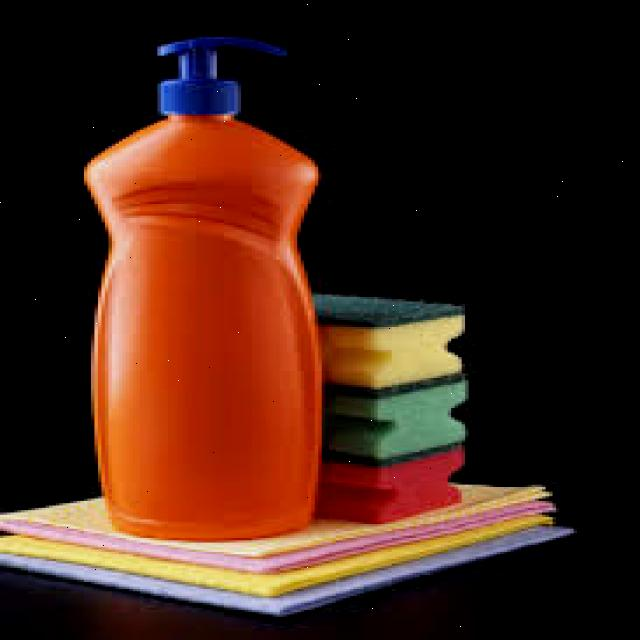liquid soap: (82, 28, 330, 543)
